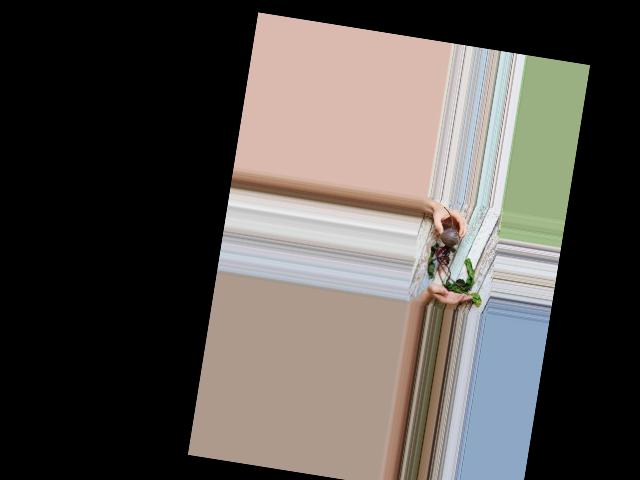beet: (423, 205, 495, 306)
